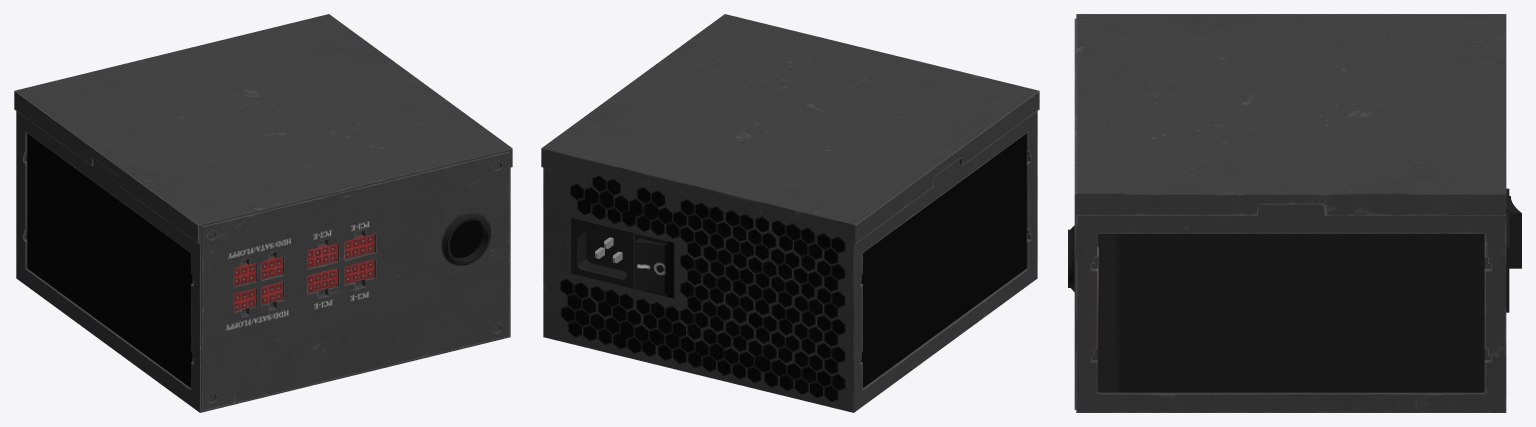
The model's file is psu-corsair-rm850x_lod1.glb.
3 views of the same model, side by side, from view 1: azimuth 30°, elevation 25°; view 2: azimuth 150°, elevation 25°; view 3: azimuth 270°, elevation 25° (orthographic). The views are drawn at different scales.
Visible parts, largest first — view 1: body; view 2: body; view 3: body.
Boxes of the visible parts, x1=… form: body: x1=14, y1=14, x2=512, y2=412; body: x1=541, y1=14, x2=1039, y2=412; body: x1=1068, y1=14, x2=1521, y2=412.
Bounding box in the file's own units: 0.15 × 0.086 × 0.16.
1 material, 1 textured.
